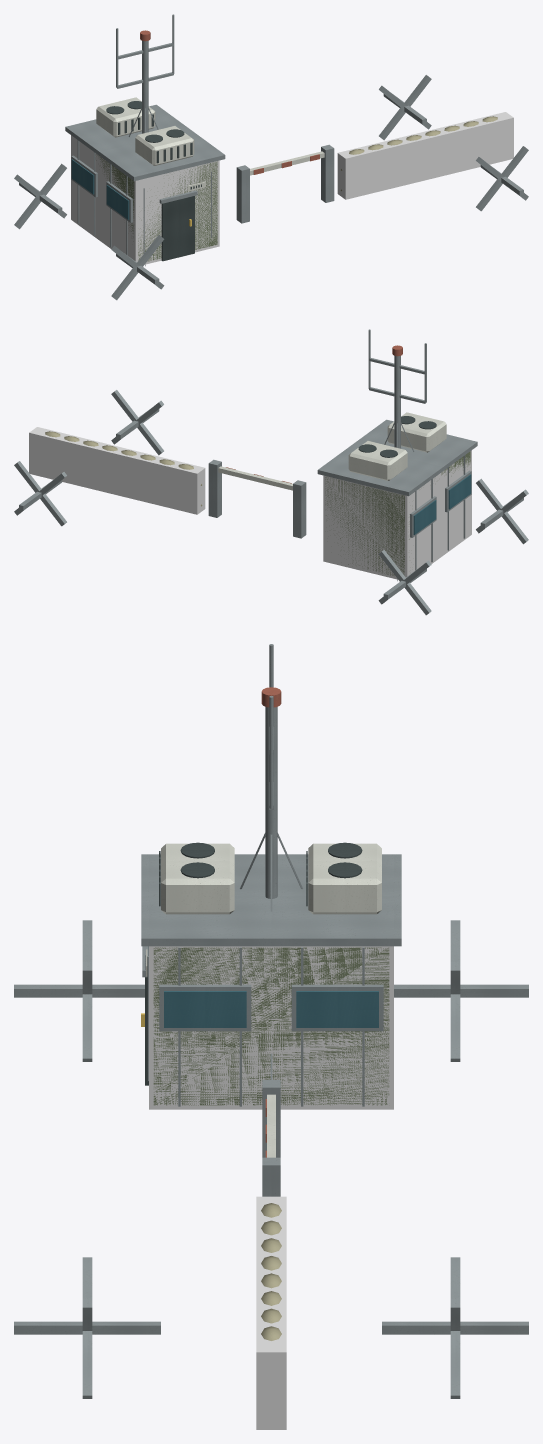
File: Checkpoint.fbx
3 views of the same model, one above another, from view 1: azimuth 30°, elevation 25°; view 2: azimuth 150°, elevation 25°; view 3: azimuth 270°, elevation 25° (orthographic). The views are drawn at different scales.
Visible parts, largest first — view 1: LOD0, COL_Static; view 2: LOD0, COL_Static; view 3: LOD0, COL_Static.
Part boxes in pixels (x1=…): LOD0: x1=14, y1=14, x2=528, y2=300; COL_Static: x1=71, y1=112, x2=513, y2=264; LOD0: x1=14, y1=329, x2=528, y2=615; COL_Static: x1=29, y1=427, x2=471, y2=579; LOD0: x1=14, y1=644, x2=528, y2=1398; COL_Static: x1=149, y1=946, x2=393, y2=1429.
Size of what is drawn, in the model's own units: 1591 by 761 by 840.
